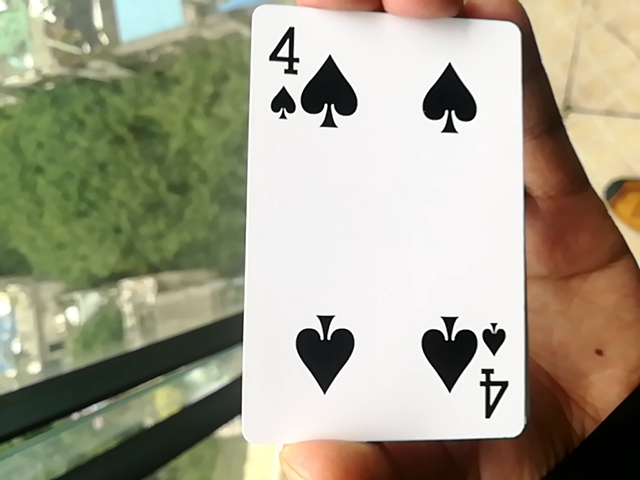ht 4: (238, 0, 523, 458)
